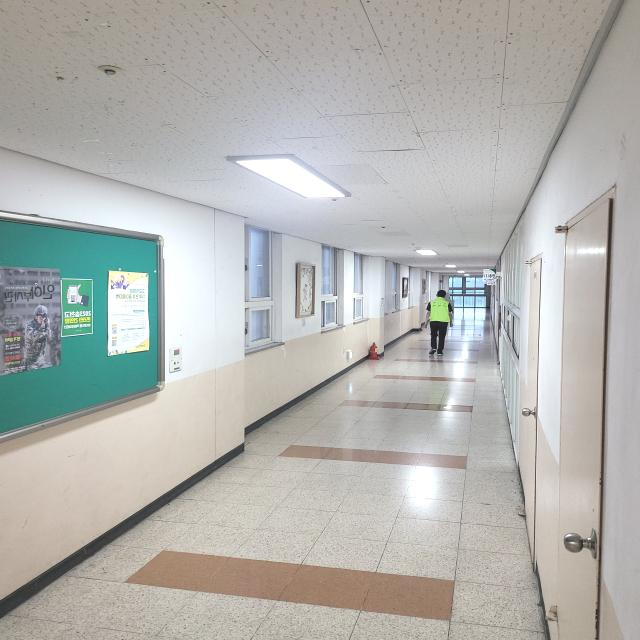weston_spy: (423, 295, 456, 331)
